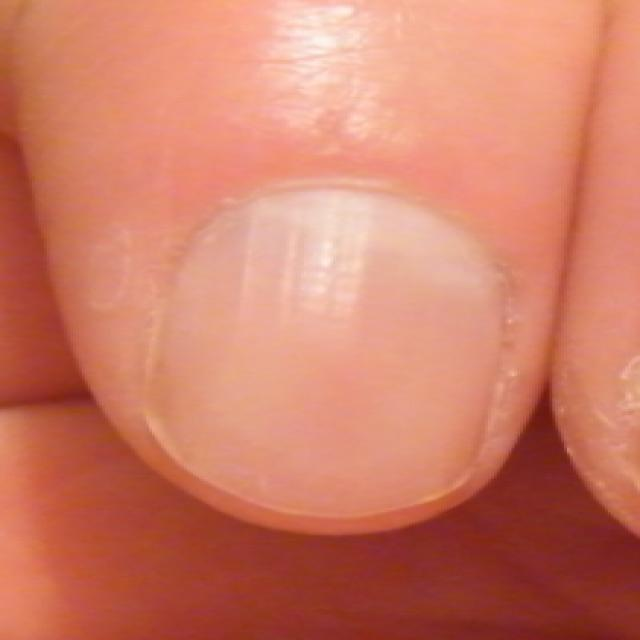Nail: (149, 188, 505, 516)
